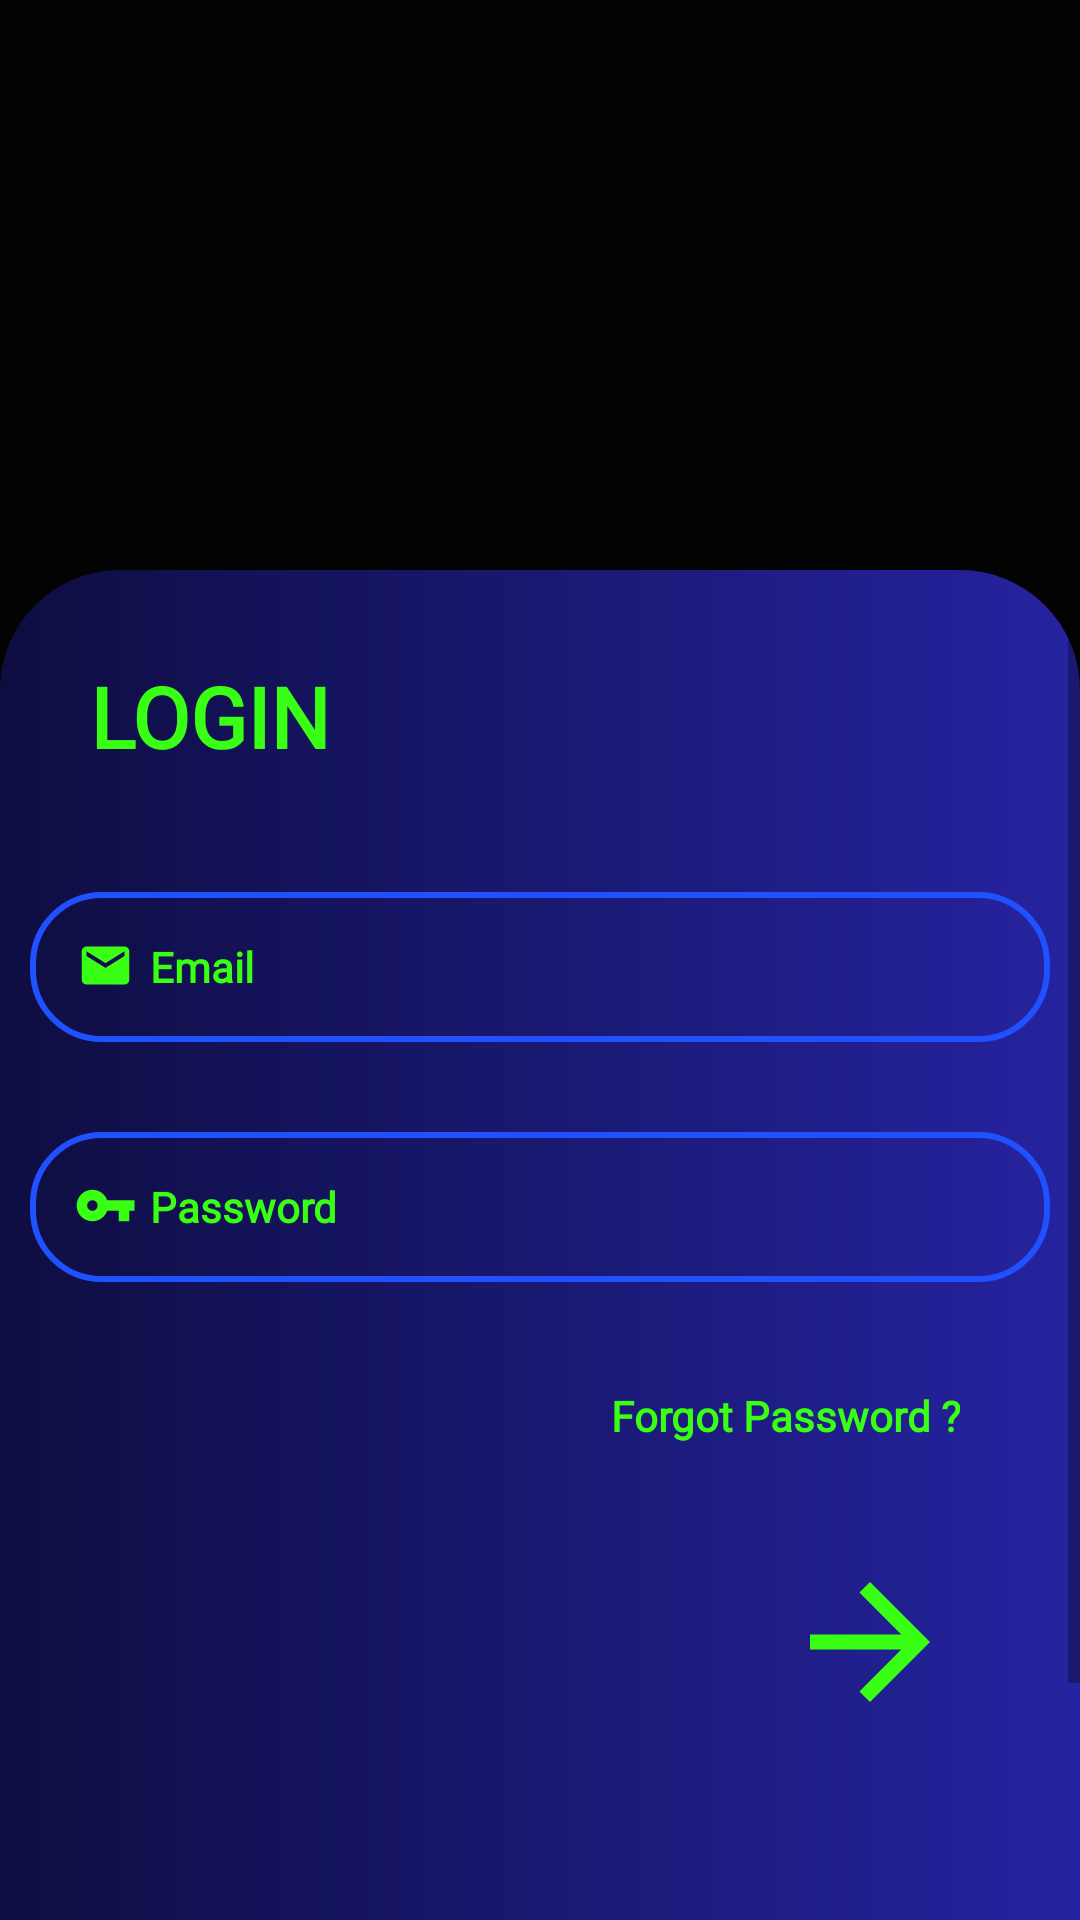

Icons on this 1080 x 1920 Android screen, each with its box as (x1, y1, x2, y2):
arrow: (810, 1537, 990, 1747)
